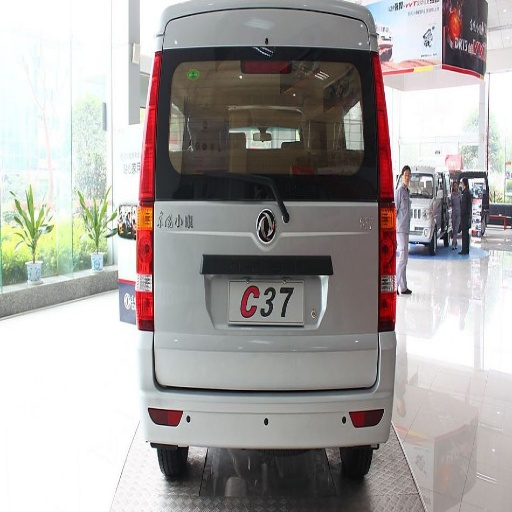back_bumper: (137, 330, 393, 450)
tailgate: (154, 170, 330, 333)
trunk: (161, 204, 376, 385), (260, 51, 360, 126)
